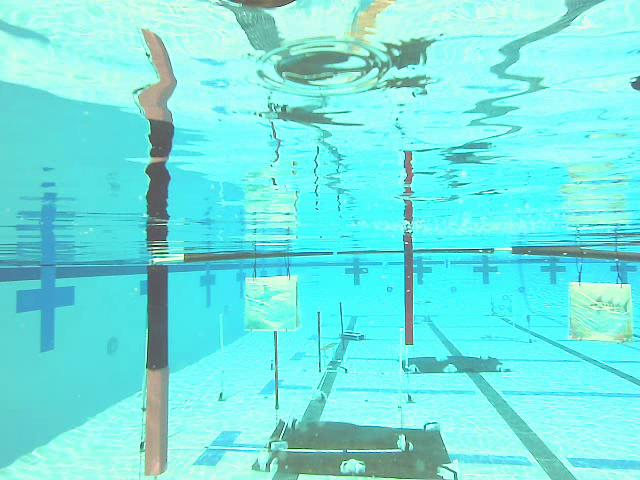black_poster: (273, 332, 280, 411), (338, 301, 345, 348), (317, 311, 322, 372)
divider: (403, 235, 415, 344)
left_gate_poster: (143, 259, 173, 478)
shark: (241, 271, 304, 336)
swordfish: (566, 278, 637, 351)
white_poster: (218, 314, 226, 403)
